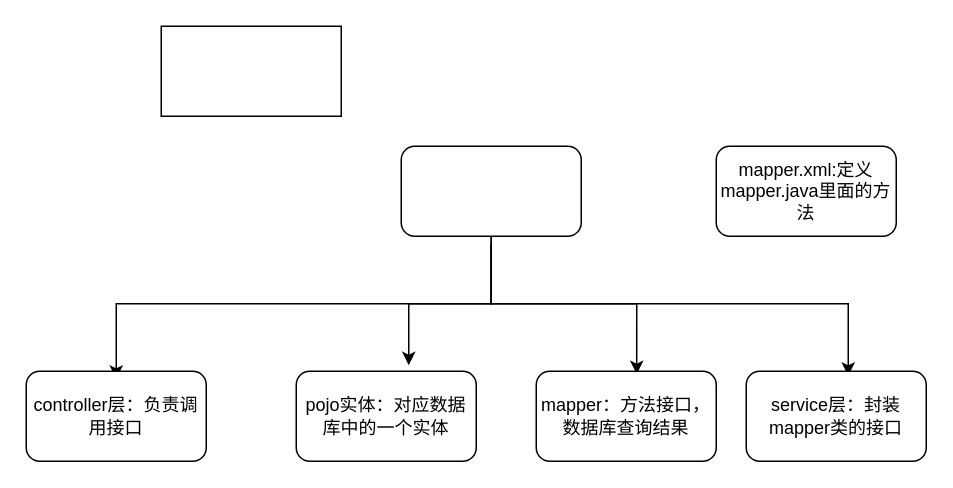
The diagram is 953 pixels wide and 488 high, and some of its shapes have lost their labels. The centre of each missing label's shape, as x and y in pixels:
"POJO过程" belongs at point 250,70.
"业务模块" belongs at point 490,190.
